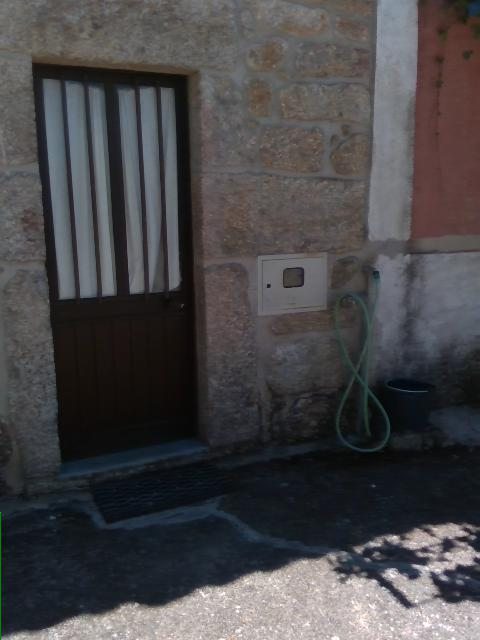closed_door: (31, 60, 197, 460)
